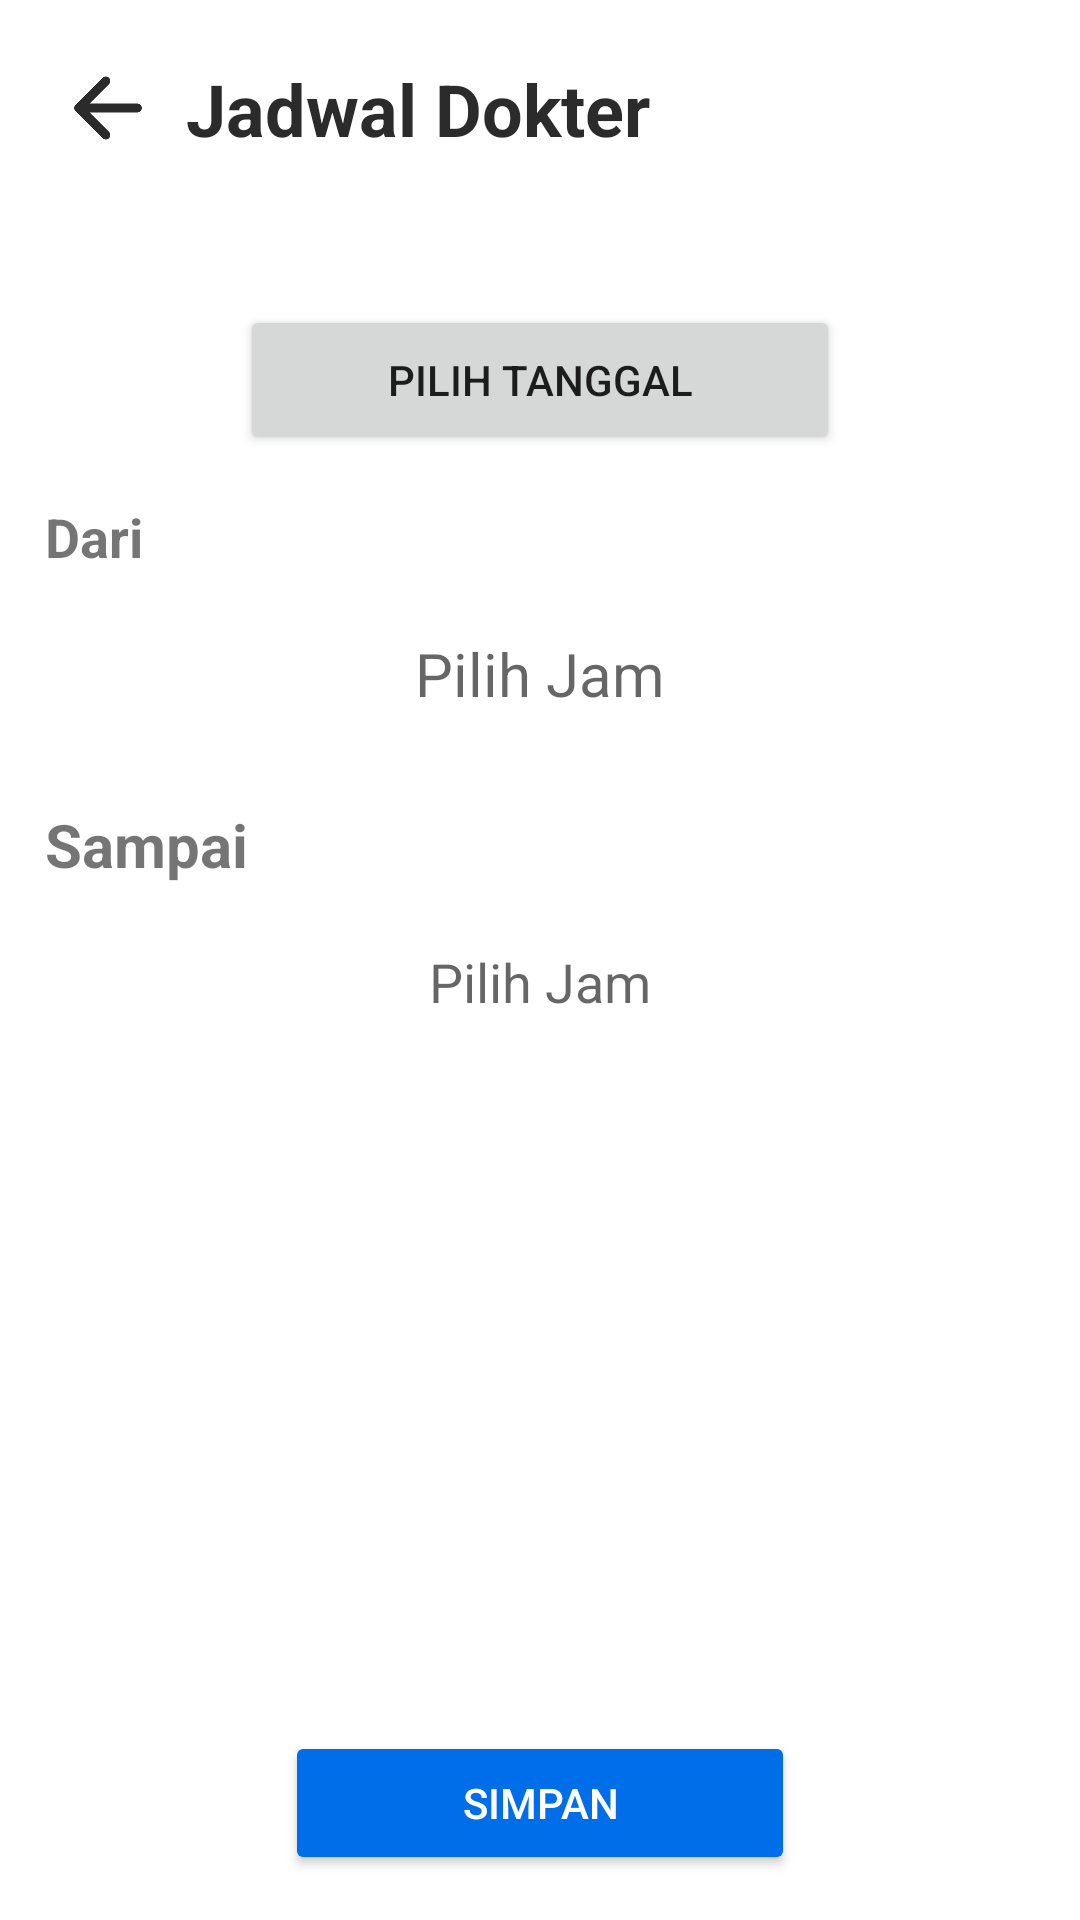

Icon bounding boxes for this 1080 × 1920 phone screenshot, format [left=x1, top=y1, right=x2, bottom=y2]:
back arrow: [left=74, top=76, right=142, bottom=140]
